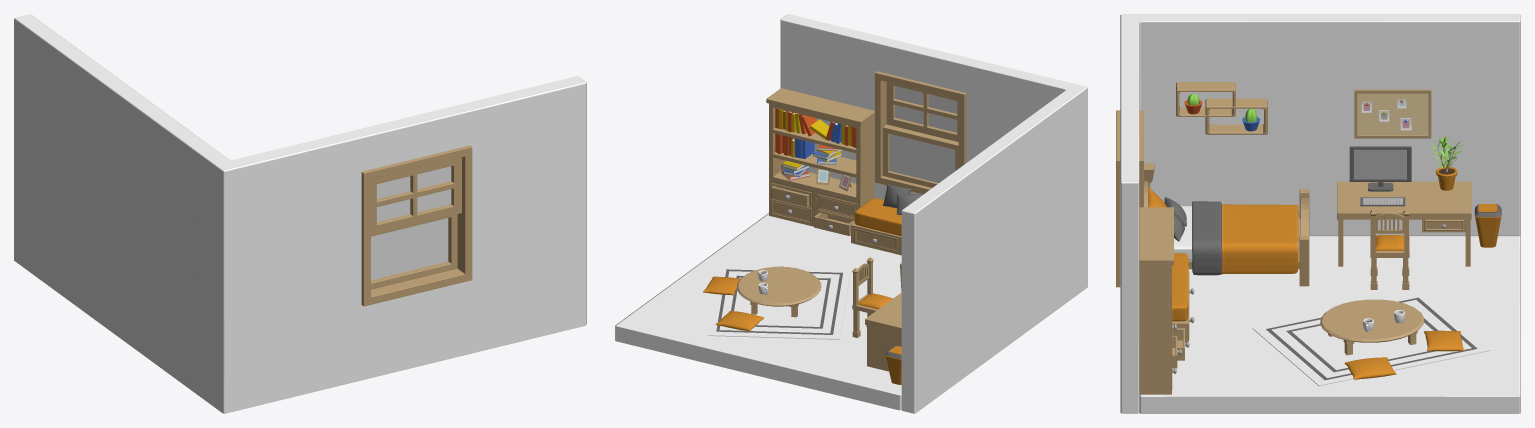
File: bedroom2.0f6a43a1.gltf
The picture shows the model from 3 angles, left to right: view 1: azimuth 30°, elevation 25°; view 2: azimuth 150°, elevation 25°; view 3: azimuth 270°, elevation 25°; orthographic projection. The views are drawn at different scales.
Parts seen in each view (by area): view 1: Wall, Window; view 2: Wall, Floor, Bookshelf, Window, Carpet, Coffe table, Sofa, Table, Book.001, Chair, Book.002, Cushion.001 (+4 smaller); view 3: Wall, Floor, Bed, Carpet, Bookshelf, Table, Board, Coffe table, Wallshelf, PC, Chair, Bed frame (+8 smaller).
Part boxes in pixels (left/top/right/bottom): Wall: left=14, top=14, right=586, bottom=413; Window: left=361, top=145, right=472, bottom=306; Wall: left=780, top=14, right=1087, bottom=413; Floor: left=615, top=213, right=901, bottom=410; Bookshelf: left=766, top=88, right=874, bottom=235; Window: left=874, top=71, right=966, bottom=194; Carpet: left=708, top=265, right=850, bottom=339; Coffe table: left=737, top=266, right=821, bottom=317; Sofa: left=851, top=198, right=901, bottom=255; Table: left=865, top=292, right=901, bottom=371; Book.001: left=775, top=108, right=856, bottom=147; Chair: left=852, top=257, right=892, bottom=337; Book.002: left=775, top=133, right=814, bottom=158; Cushion.001: left=716, top=311, right=764, bottom=331; Wall: left=1120, top=14, right=1520, bottom=413; Floor: left=1139, top=235, right=1520, bottom=413; Bed: left=1174, top=201, right=1298, bottom=275; Carpet: left=1252, top=292, right=1490, bottom=386; Bookshelf: left=1139, top=207, right=1189, bottom=394; Table: left=1337, top=181, right=1471, bottom=266; Board: left=1354, top=89, right=1431, bottom=138; Coffe table: left=1320, top=299, right=1424, bottom=355; Wallshelf: left=1176, top=82, right=1267, bottom=134; PC: left=1349, top=146, right=1411, bottom=191; Chair: left=1370, top=210, right=1409, bottom=289; Bed frame: left=1144, top=163, right=1309, bottom=286.
Bounding box in the file's own units: 8.4 × 5.37 × 8.49.
